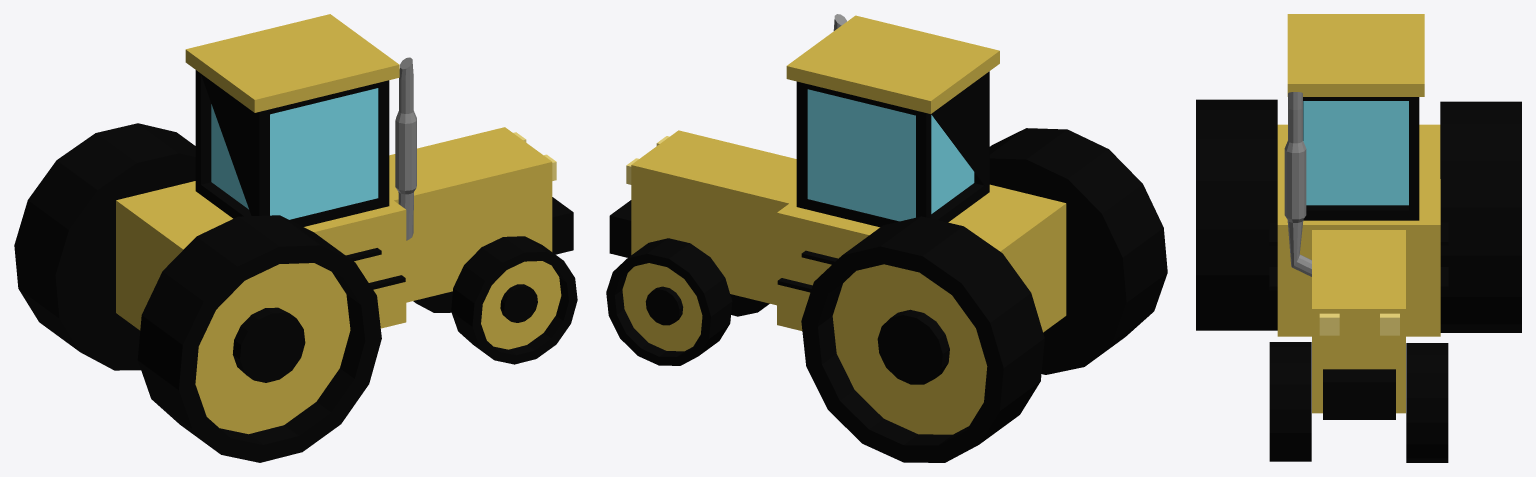
The model's file is Tractor amarillo.fbx.
3 views of the same model, side by side, from view 1: azimuth 30°, elevation 25°; view 2: azimuth 150°, elevation 25°; view 3: azimuth 270°, elevation 25° (orthographic).
Visible parts, largest first — view 1: Cylinder.010, Cylinder.016, Cylinder.001, Cylinder.002, Cylinder.008, Cylinder.021, Cylinder.005, Cylinder.003, Cylinder.011, Cylinder.007, Cylinder.018, Cylinder.009; view 2: Cylinder.016, Cylinder.010, Cylinder.001, Cylinder.002, Cylinder.008, Cylinder.021, Cylinder.019, Cylinder.003, Cylinder.017, Cylinder.020, Cylinder.009; view 3: Cylinder.010, Cylinder.016, Cylinder.001, Cylinder.021, Cylinder.002, Cylinder.008, Cylinder.005, Cylinder.019, Cylinder.009, Cylinder.003, Cylinder.007, Cylinder.004 (+1 smaller).
Boxes of the visible parts, bbox=[...] form: Cylinder.010: bbox=[137, 215, 381, 462]; Cylinder.016: bbox=[14, 123, 195, 370]; Cylinder.001: bbox=[389, 127, 552, 302]; Cylinder.002: bbox=[116, 181, 406, 330]; Cylinder.008: bbox=[211, 88, 378, 219]; Cylinder.021: bbox=[185, 14, 399, 112]; Cylinder.005: bbox=[451, 236, 577, 364]; Cylinder.003: bbox=[195, 70, 389, 226]; Cylinder.011: bbox=[232, 307, 305, 382]; Cylinder.007: bbox=[395, 57, 416, 240]; Cylinder.018: bbox=[500, 284, 537, 322]; Cylinder.009: bbox=[552, 197, 573, 254]; Cylinder.016: bbox=[801, 216, 1044, 462]; Cylinder.010: bbox=[989, 128, 1167, 374]; Cylinder.001: bbox=[631, 130, 796, 305]; Cylinder.002: bbox=[777, 184, 1066, 332]; Cylinder.008: bbox=[807, 89, 974, 221]; Cylinder.021: bbox=[786, 15, 999, 113]; Cylinder.019: bbox=[606, 238, 732, 365]; Cylinder.003: bbox=[796, 71, 989, 227]; Cylinder.017: bbox=[877, 309, 949, 384]; Cylinder.020: bbox=[645, 286, 683, 325]; Cylinder.009: bbox=[609, 200, 631, 257]; Cylinder.010: bbox=[1196, 99, 1277, 330]; Cylinder.016: bbox=[1440, 101, 1521, 332]; Cylinder.001: bbox=[1312, 230, 1405, 413]; Cylinder.021: bbox=[1287, 14, 1424, 96]; Cylinder.002: bbox=[1277, 124, 1440, 336]; Cylinder.008: bbox=[1303, 101, 1408, 205]; Cylinder.005: bbox=[1269, 342, 1311, 461]; Cylinder.019: bbox=[1406, 343, 1448, 462]; Cylinder.009: bbox=[1323, 369, 1395, 419]; Cylinder.003: bbox=[1303, 97, 1419, 220]; Cylinder.007: bbox=[1284, 92, 1311, 276]; Cylinder.004: bbox=[1319, 313, 1339, 335].
Size of the model in its own units: 386 by 258 by 240.
